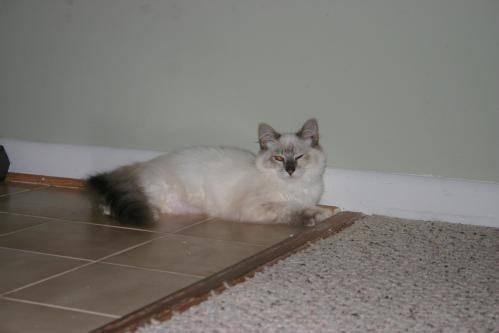cat: (88, 118, 326, 225)
